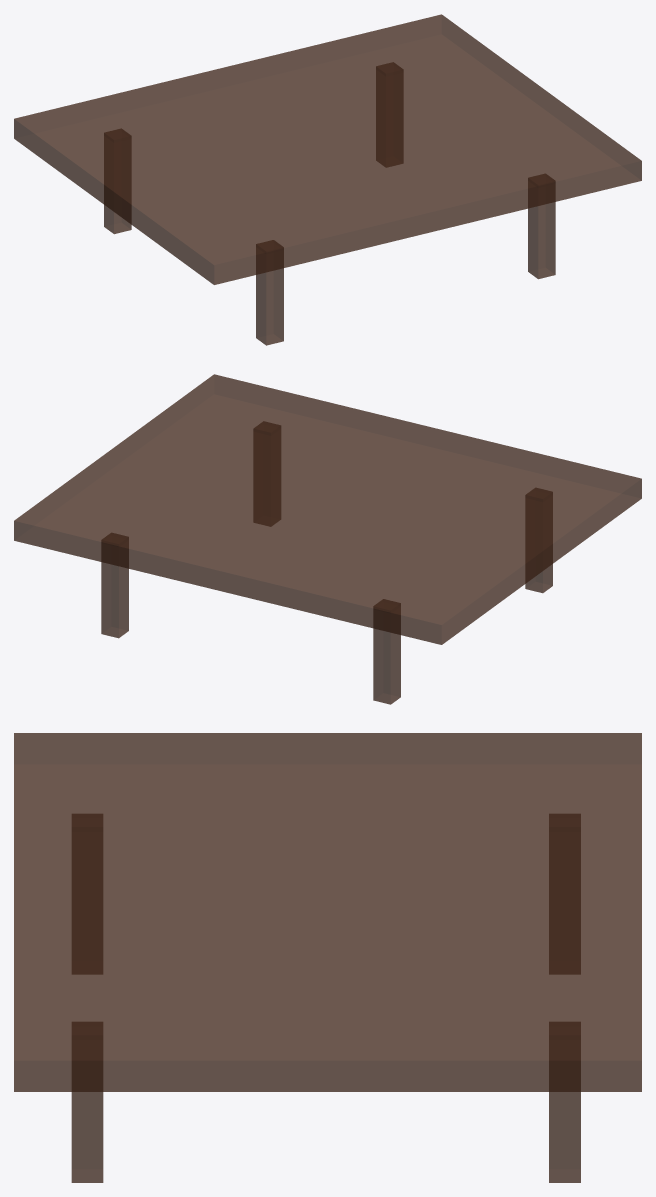
File: table.obj
3 views of the same model, one above another, from view 1: azimuth 30°, elevation 25°; view 2: azimuth 150°, elevation 25°; view 3: azimuth 270°, elevation 25° (orthographic). The views are drawn at different scales.
Parts seen in each view (by area): view 1: Table_Wood; view 2: Table_Wood; view 3: Table_Wood.
Part boxes in pixels (x1,y1,x2,y2): Table_Wood: [14, 14, 641, 345]; Table_Wood: [14, 374, 641, 704]; Table_Wood: [14, 733, 641, 1182].
Bounding box in the file's own units: 48.69 × 12.08 × 39.46.
